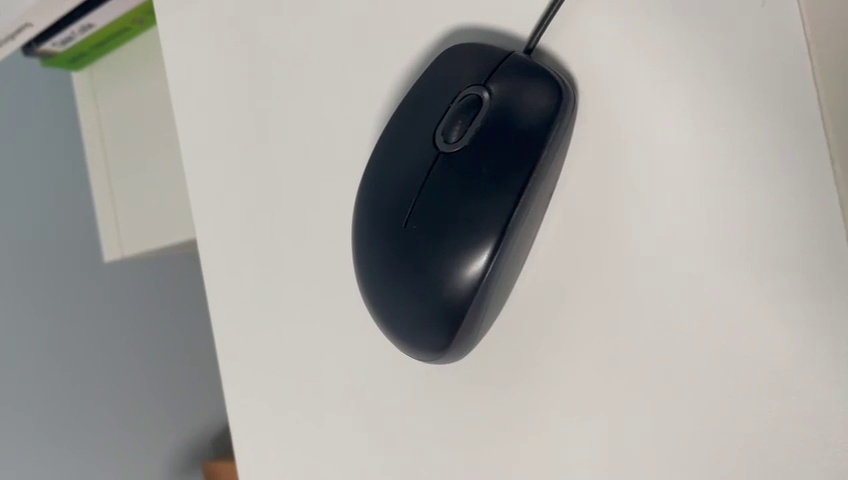objeto: (340, 22, 583, 381)
